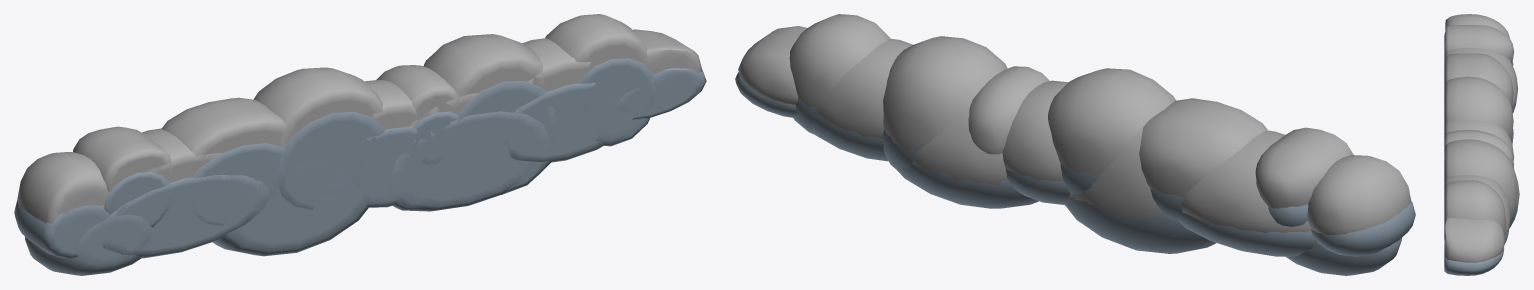
Rendered from kumo1.fbx.
3 views of the same model, side by side, from view 1: azimuth 30°, elevation 25°; view 2: azimuth 150°, elevation 25°; view 3: azimuth 270°, elevation 25° (orthographic). The views are drawn at different scales.
Visible parts, largest first — view 1: pSphere17; view 2: pSphere17; view 3: pSphere17.
Boxes of the visible parts, box(x1,y1,x2,y2) form: pSphere17: box(14, 14, 706, 275); pSphere17: box(735, 14, 1415, 275); pSphere17: box(1444, 14, 1519, 275).
Size of the model in its own units: 0.7204 by 0.1684 by 0.1016.
